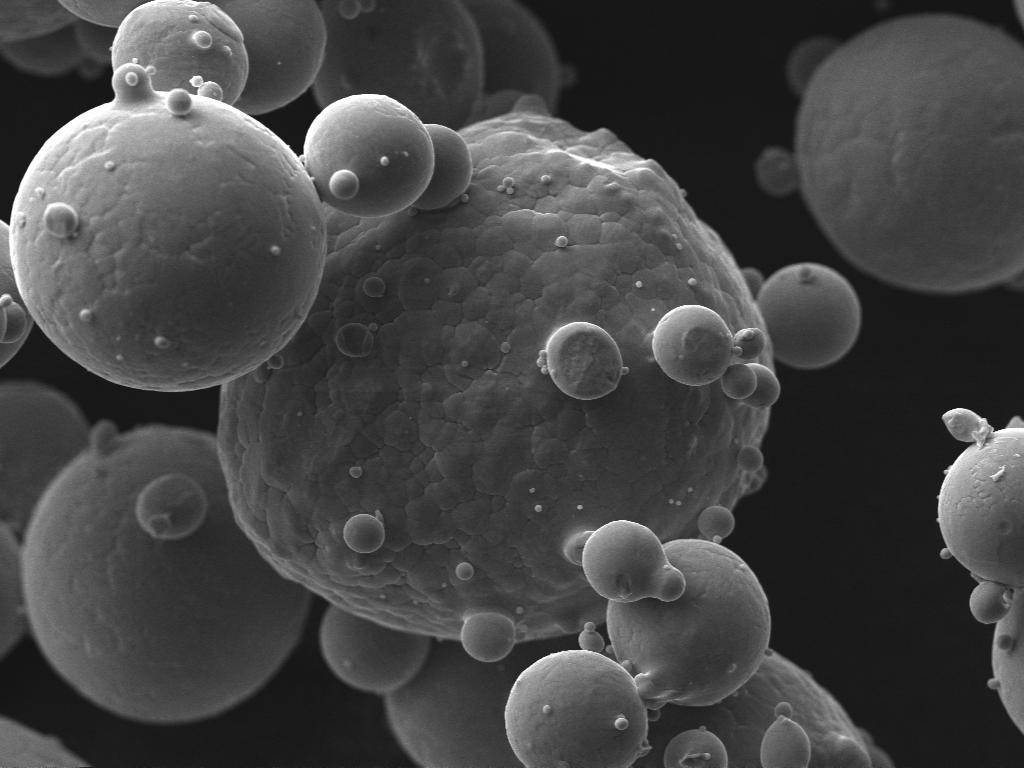Powder: (218, 112, 858, 705), (10, 0, 472, 391), (320, 606, 890, 766), (22, 420, 310, 724), (754, 14, 1024, 293), (312, 0, 562, 130), (938, 408, 1024, 733), (0, 380, 90, 534), (213, 0, 326, 114), (0, 220, 34, 365), (0, 717, 88, 766), (0, 26, 82, 75), (1, 520, 26, 659), (1, 0, 78, 43), (58, 1, 148, 27)
